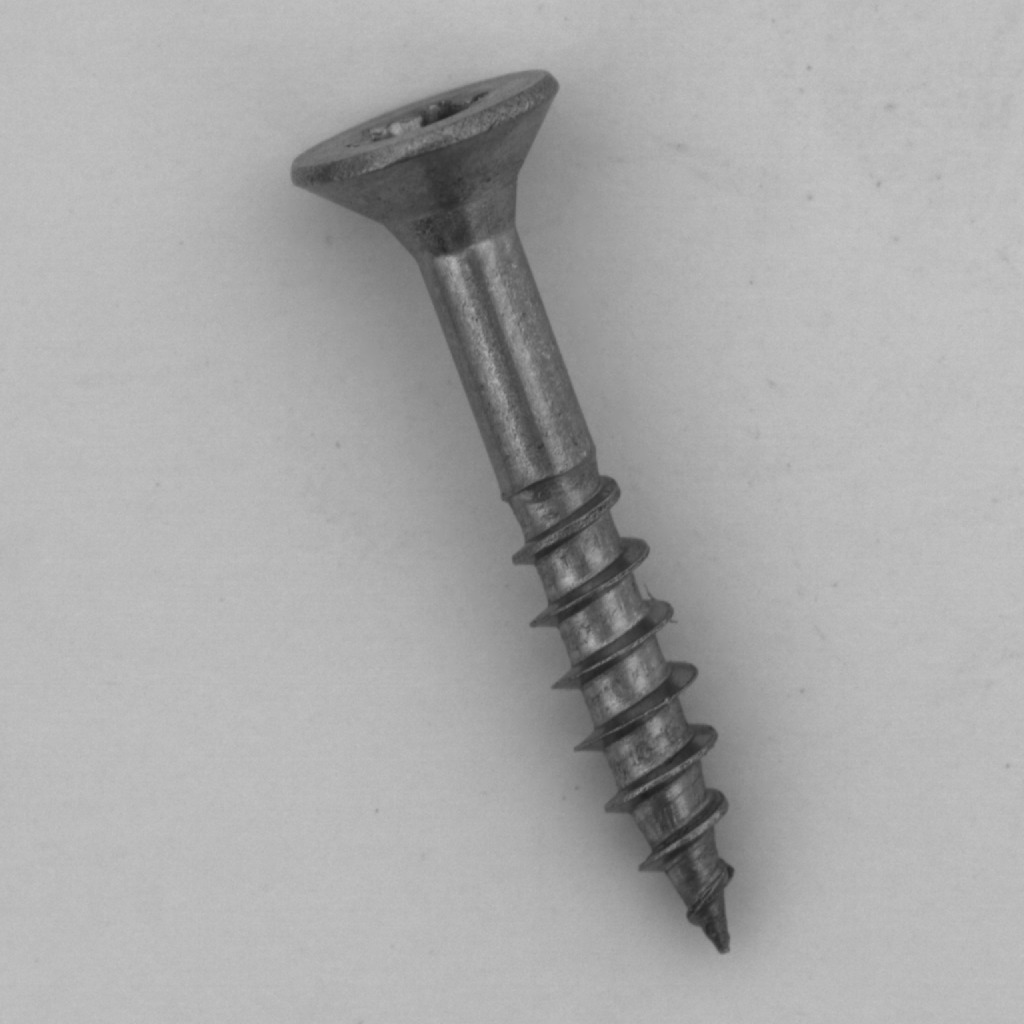good: (277, 51, 779, 969)
